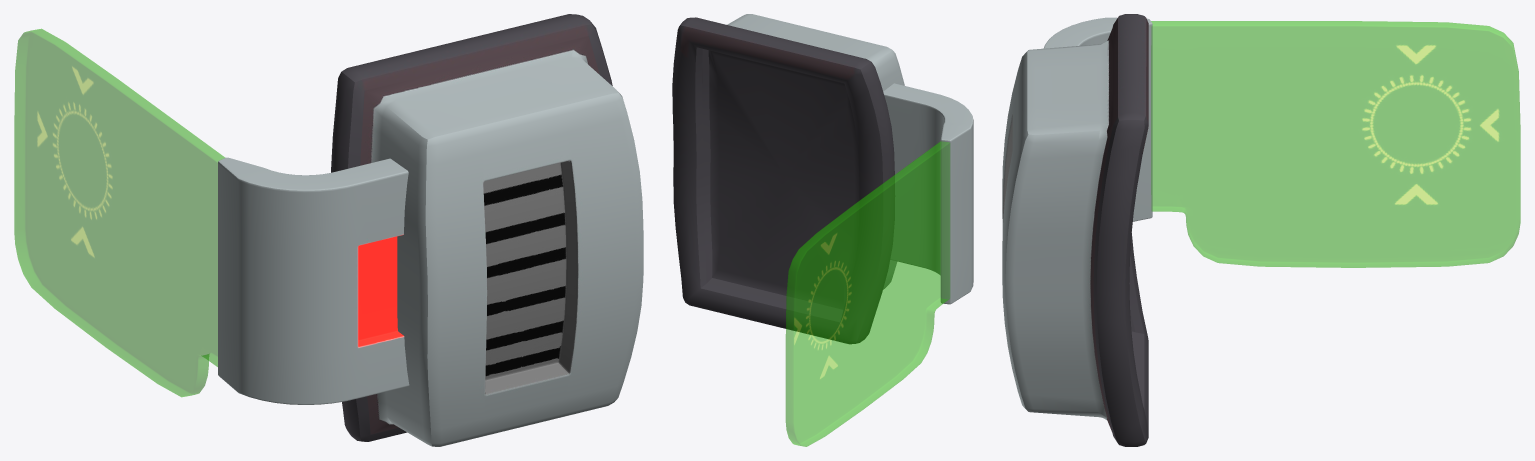
File: scouter_dragon_ball_14e781.glb
3 renders of one model, left to right at view 1: azimuth 30°, elevation 25°; view 2: azimuth 150°, elevation 25°; view 3: azimuth 270°, elevation 25°, orthographic. The views are drawn at different scales.
Parts seen in each view (by area): view 1: Oreja, vidrio, Sosten; view 2: Oreja, vidrio, Sosten; view 3: vidrio, Oreja, Sosten.
Boxes of the visible parts, <box> form: Oreja: <box>331,14,643,446</box>; vidrio: <box>14,28,225,397</box>; Sosten: <box>218,157,409,404</box>; Oreja: <box>672,14,904,344</box>; vidrio: <box>785,141,949,446</box>; Sosten: <box>883,83,973,304</box>; vidrio: <box>1151,21,1520,267</box>; Oreja: <box>1002,14,1148,446</box>; Sosten: <box>1043,17,1152,221</box>.
Size of the model in its own units: 2.5 by 2.31 by 3.23.
2 materials, 2 textured.
